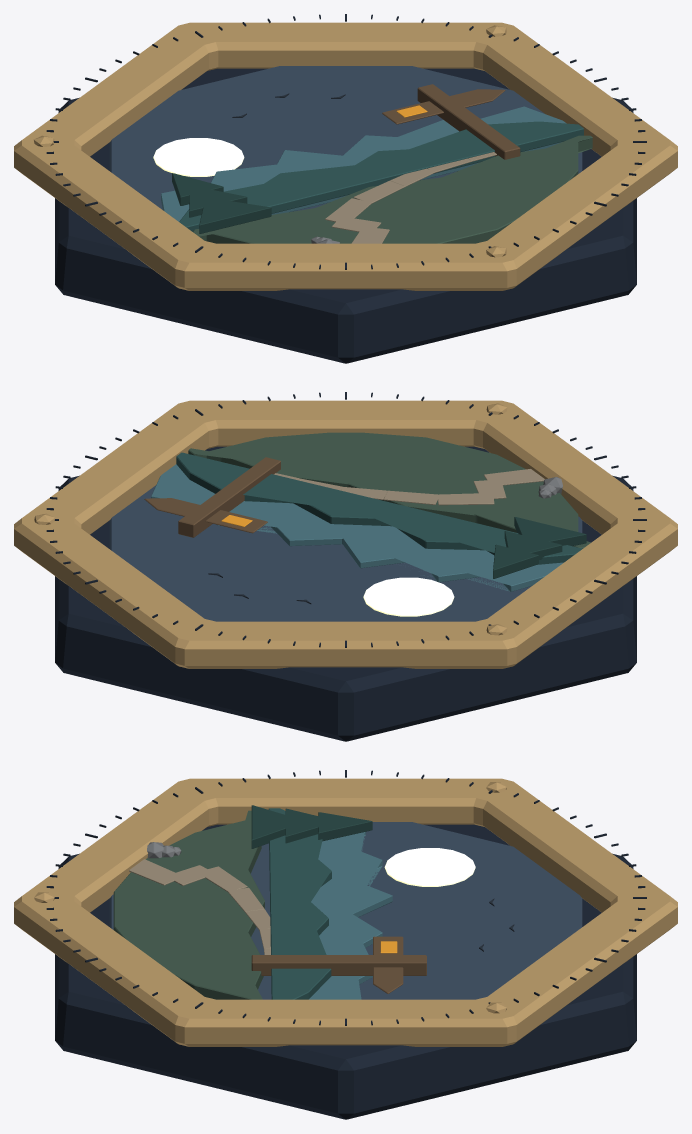
Rendered from trail_first.glb.
3 renders of one model, top to bottom at view 1: azimuth 30°, elevation 25°; view 2: azimuth 150°, elevation 25°; view 3: azimuth 270°, elevation 25°, orthographic.
Visible parts, largest first — view 1: BG_FrameRing, BG_BasePlate, BG_Field, TF_Meadow, TF_MidHill, TF_FarHill, TF_Pine, TF_Path, TF_Sun, TF_Post, BG_TickScale, TF_Board (+1 smaller); view 2: BG_FrameRing, BG_BasePlate, BG_Field, TF_Meadow, TF_FarHill, TF_MidHill, TF_Pine, TF_Path, TF_Sun, TF_Post, BG_TickScale, TF_Board (+1 smaller); view 3: BG_FrameRing, BG_BasePlate, BG_Field, TF_Meadow, TF_MidHill, TF_FarHill, TF_Pine, TF_Post, TF_Sun, TF_Path, BG_TickScale, TF_Board (+1 smaller).
Part boxes in pixels (box(x1,y1,x2,y2)): BG_FrameRing: box(14, 22, 677, 290); BG_BasePlate: box(55, 68, 636, 363); BG_Field: box(109, 66, 582, 211); TF_Meadow: box(193, 135, 592, 243); TF_MidHill: box(179, 121, 583, 231); TF_FarHill: box(161, 106, 566, 221); TF_Pine: box(172, 173, 271, 233); TF_Path: box(325, 152, 496, 243); TF_Sun: box(153, 138, 244, 176); TF_Post: box(417, 84, 520, 159); BG_TickScale: box(46, 14, 646, 269); TF_Board: box(382, 89, 505, 124); BG_FrameRing: box(14, 400, 677, 668); BG_BasePlate: box(55, 446, 636, 741); BG_Field: box(109, 485, 582, 621); TF_Meadow: box(188, 432, 590, 548); TF_FarHill: box(151, 464, 563, 591); TF_MidHill: box(176, 452, 582, 564); TF_Pine: box(493, 517, 586, 578); TF_Path: box(274, 469, 544, 505); TF_Sun: box(363, 577, 454, 616); TF_Post: box(178, 457, 280, 537); BG_TickScale: box(46, 392, 646, 647); TF_Board: box(144, 498, 267, 533); BG_FrameRing: box(14, 778, 677, 1046); BG_BasePlate: box(55, 824, 636, 1119); BG_Field: box(109, 822, 582, 999); TF_Meadow: box(113, 810, 264, 999); TF_MidHill: box(268, 808, 331, 999); TF_FarHill: box(309, 832, 392, 999); TF_Pine: box(251, 805, 372, 848); TF_Post: box(251, 955, 426, 975); TF_Sun: box(384, 848, 475, 886); TF_Path: box(129, 859, 270, 954); BG_TickScale: box(46, 770, 646, 1025); TF_Board: box(373, 936, 403, 993).
Bounding box in the file's own units: 0.0393 × 0.00585 × 0.0394.
